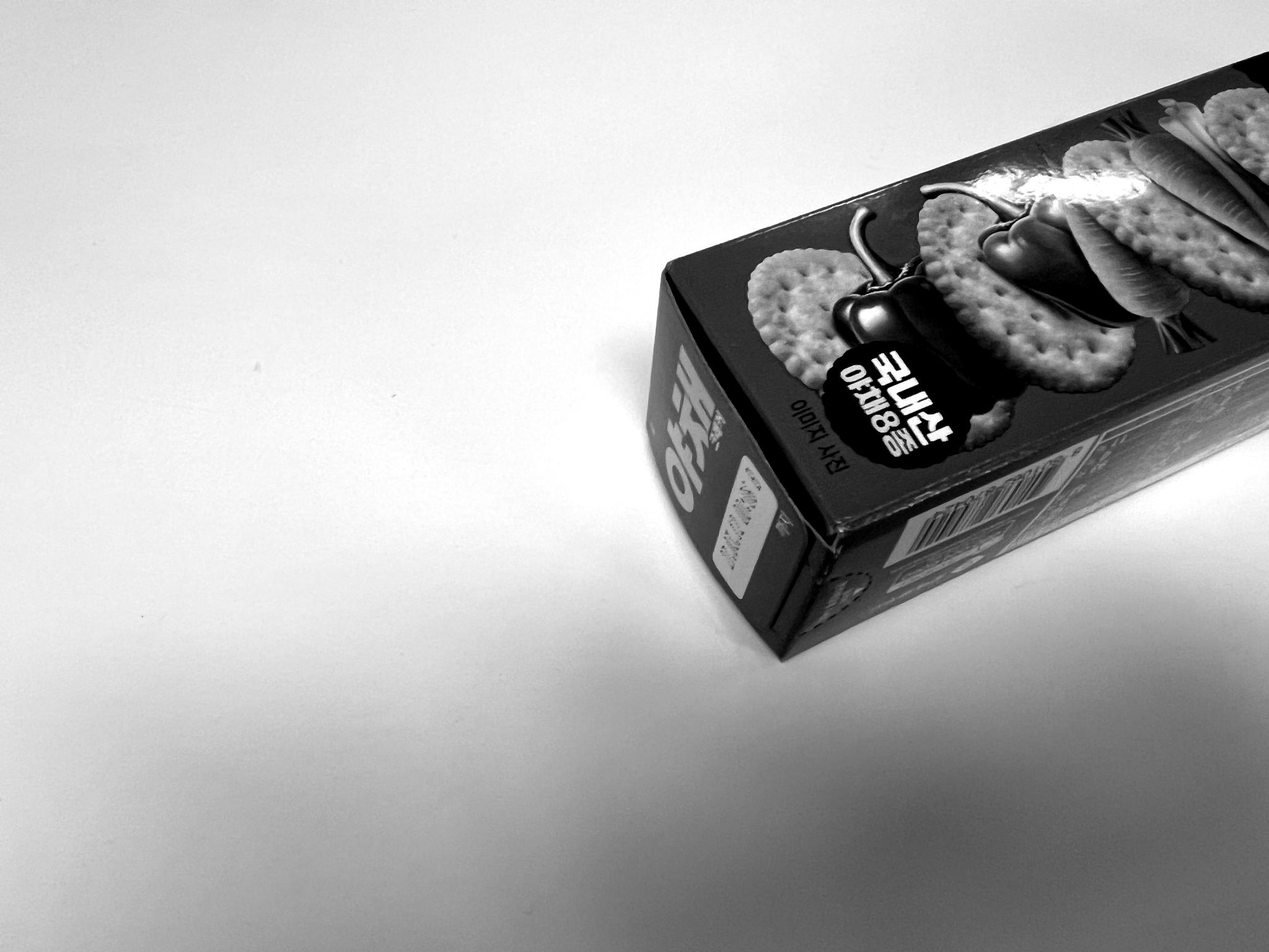cracker_vege: (644, 54, 1269, 657)
